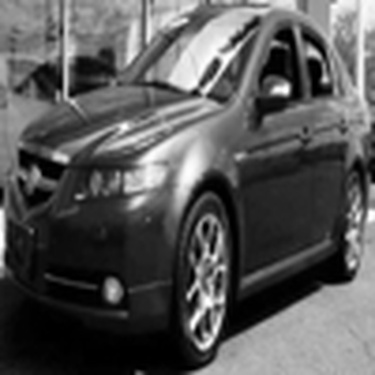car: (3, 7, 369, 372), (8, 55, 125, 102), (2, 47, 44, 90)
